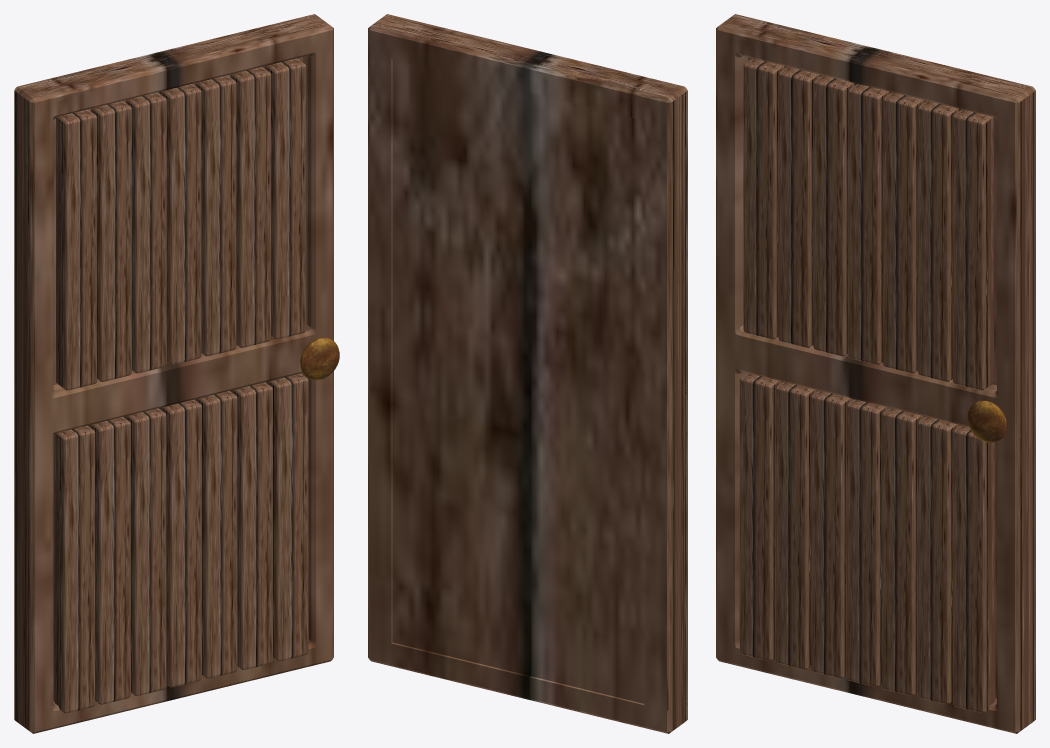
File: doorExport.fbx
3 renders of one model, left to right at view 1: azimuth 30°, elevation 25°; view 2: azimuth 150°, elevation 25°; view 3: azimuth 330°, elevation 25°, orthographic.
Parts seen in each view (by area): view 1: pCube17; view 2: pCube17; view 3: pCube17.
Boxes of the visible parts, x1,y1,x2,y2 form: pCube17: (14,14,339,733); pCube17: (368,14,687,733); pCube17: (716,14,1035,733).
Size of the model in its own units: 0.9 by 1.8 by 0.1597.
2 materials, 2 textured.
